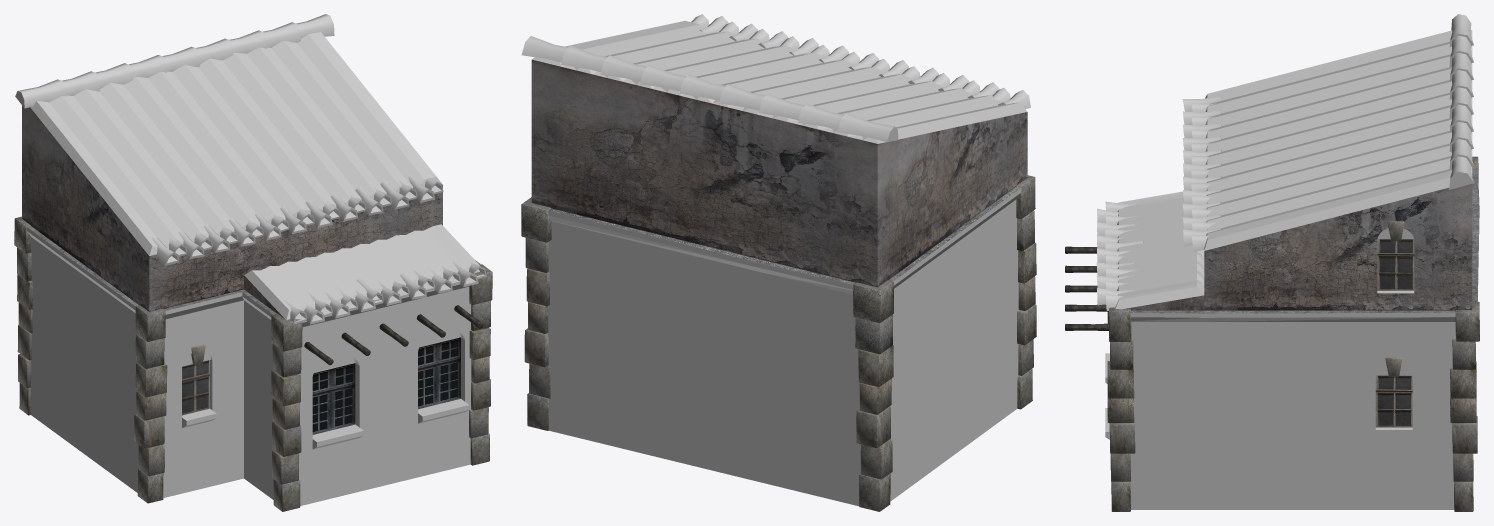
The model's file is Building_Roof_01.fbx.
The picture shows the model from 3 angles, left to right: view 1: azimuth 30°, elevation 25°; view 2: azimuth 150°, elevation 25°; view 3: azimuth 270°, elevation 25°; orthographic projection. The views are drawn at different scales.
Visible parts, largest first — view 1: Building_Roof_01; view 2: Building_Roof_01; view 3: Building_Roof_01.
Part boxes in pixels (x1=…): Building_Roof_01: x1=14, y1=14, x2=492, y2=511; Building_Roof_01: x1=521, y1=14, x2=1036, y2=511; Building_Roof_01: x1=1065, y1=14, x2=1479, y2=511.
Size of the model in its own units: 526 by 529 by 580.
